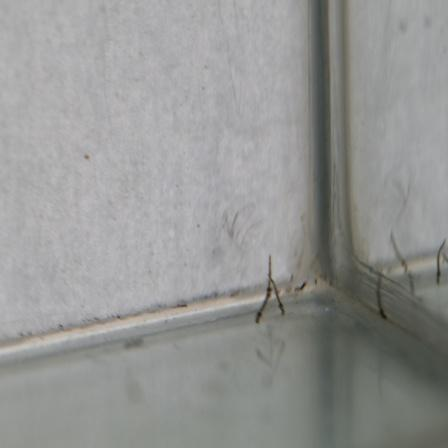Jentik-Nyamuk: (251, 254, 288, 325), (373, 267, 391, 322)
